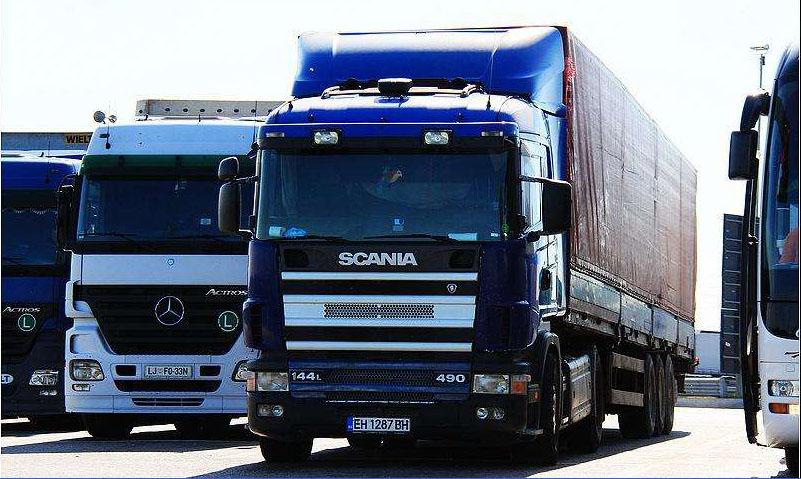truck: (239, 17, 714, 467)
